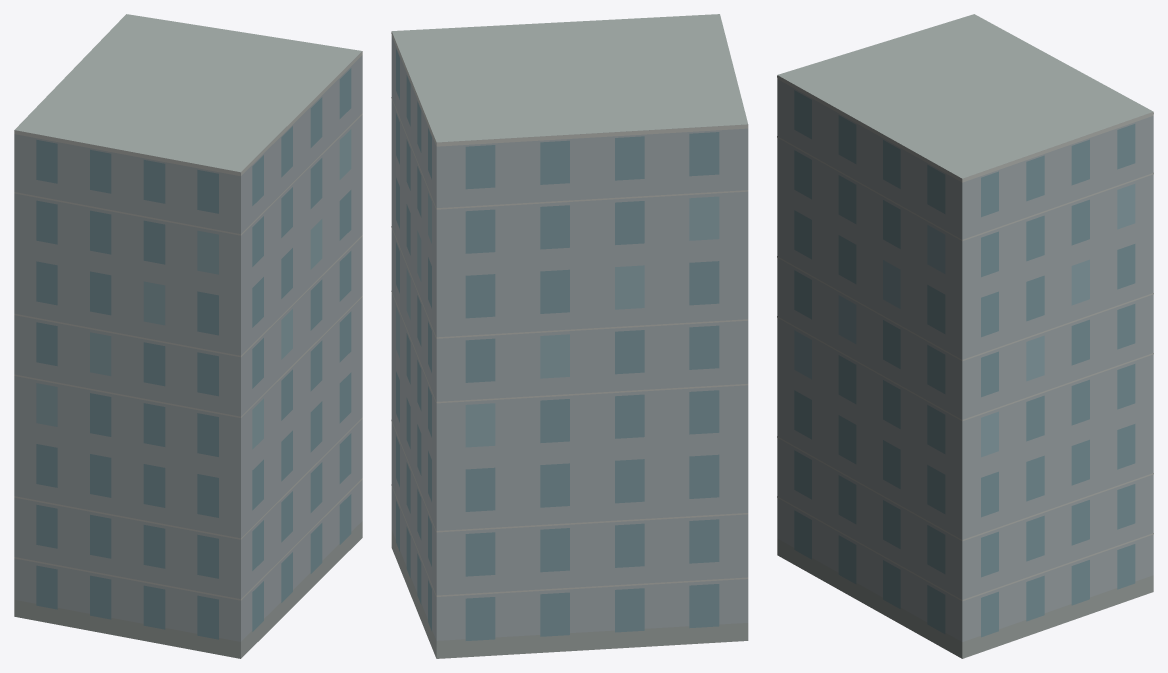
The model's file is survey-upis-32563060.glb.
3 views of the same model, side by side, from view 1: azimuth 30°, elevation 25°; view 2: azimuth 150°, elevation 25°; view 3: azimuth 270°, elevation 25° (orthographic). The views are drawn at different scales.
Parts seen in each view (by area): view 1: survey-upis-32563060.tmp; view 2: survey-upis-32563060.tmp; view 3: survey-upis-32563060.tmp.
Part boxes in pixels (x1,y1,x2,y2): survey-upis-32563060.tmp: (14,14,362,658); survey-upis-32563060.tmp: (391,14,748,658); survey-upis-32563060.tmp: (777,14,1153,658).
Bounding box in the file's own units: 21.87 × 29.7 × 21.13.
